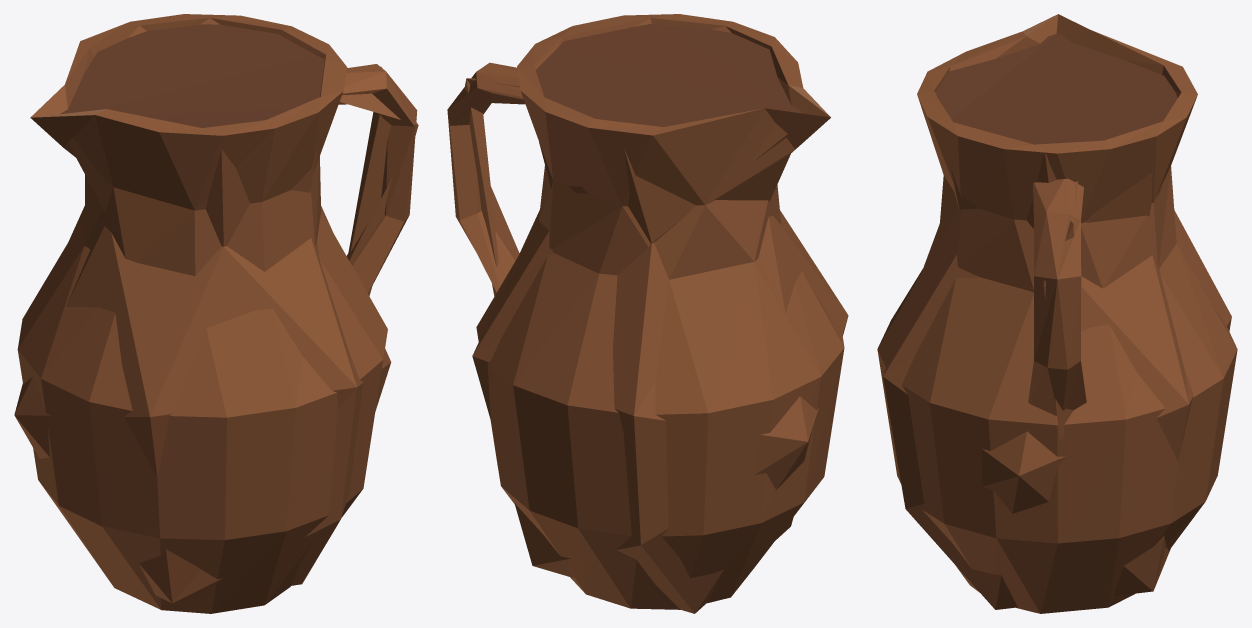
File: pf_jug.glb
3 views of the same model, side by side, from view 1: azimuth 30°, elevation 25°; view 2: azimuth 150°, elevation 25°; view 3: azimuth 270°, elevation 25° (orthographic). The views are drawn at different scales.
Visible parts, largest first — view 1: body, body__far; view 2: body, body__far; view 3: body, body__far.
Part boxes in pixels (x1=…): body: x1=17, y1=14, x2=417, y2=613; body__far: x1=14, y1=24, x2=418, y2=603; body: x1=447, y1=14, x2=844, y2=609; body__far: x1=464, y1=23, x2=848, y2=613; body: x1=877, y1=14, x2=1237, y2=613; body__far: x1=883, y1=33, x2=1231, y2=609.
Bounding box in the file's own units: 0.2606 × 0.329 × 0.2181.
